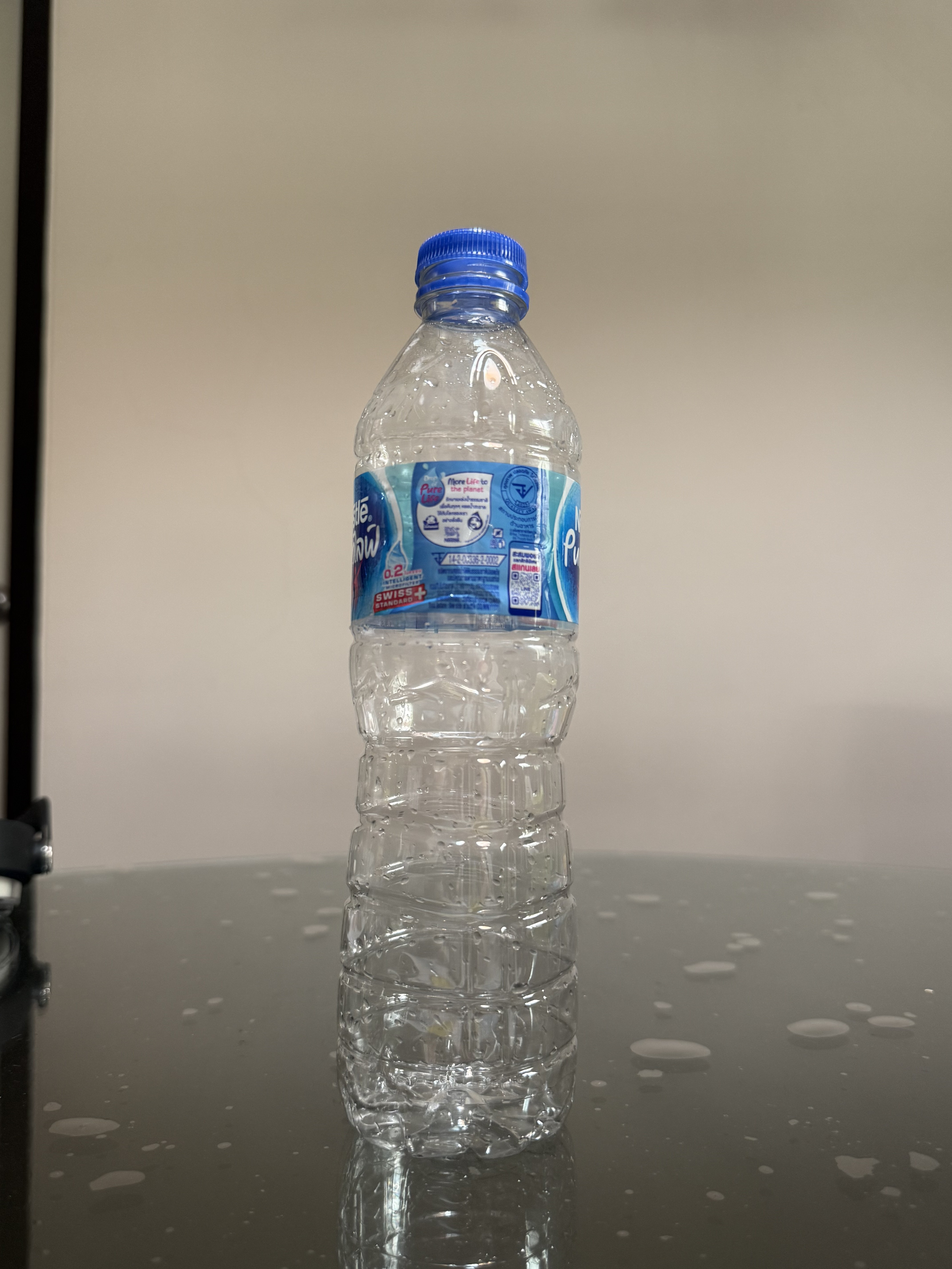half_cap: (411, 224, 531, 320)
